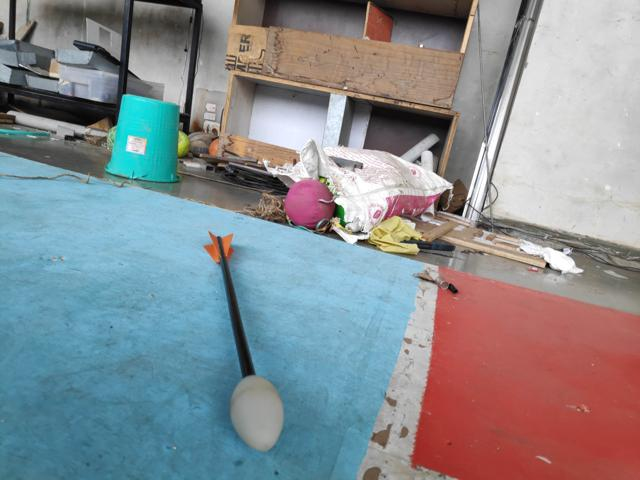Head: (225, 374, 287, 453)
Tail: (203, 224, 238, 268)
